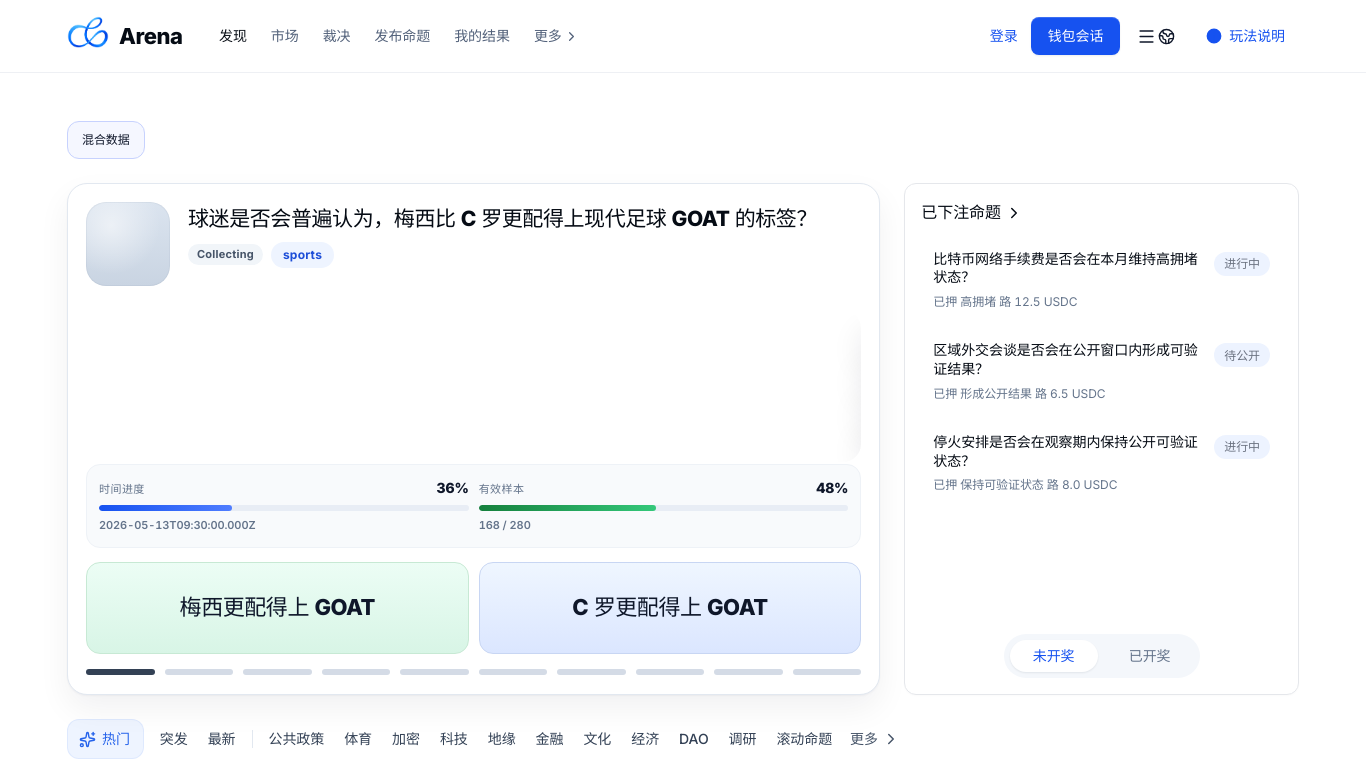
Scenario: quick menu popover › closes when clicking outside the popover
The width and height of the screenshot is (1366, 768).
Click the button named "Menu and language": (1156, 36) [1133,17,1179,55]
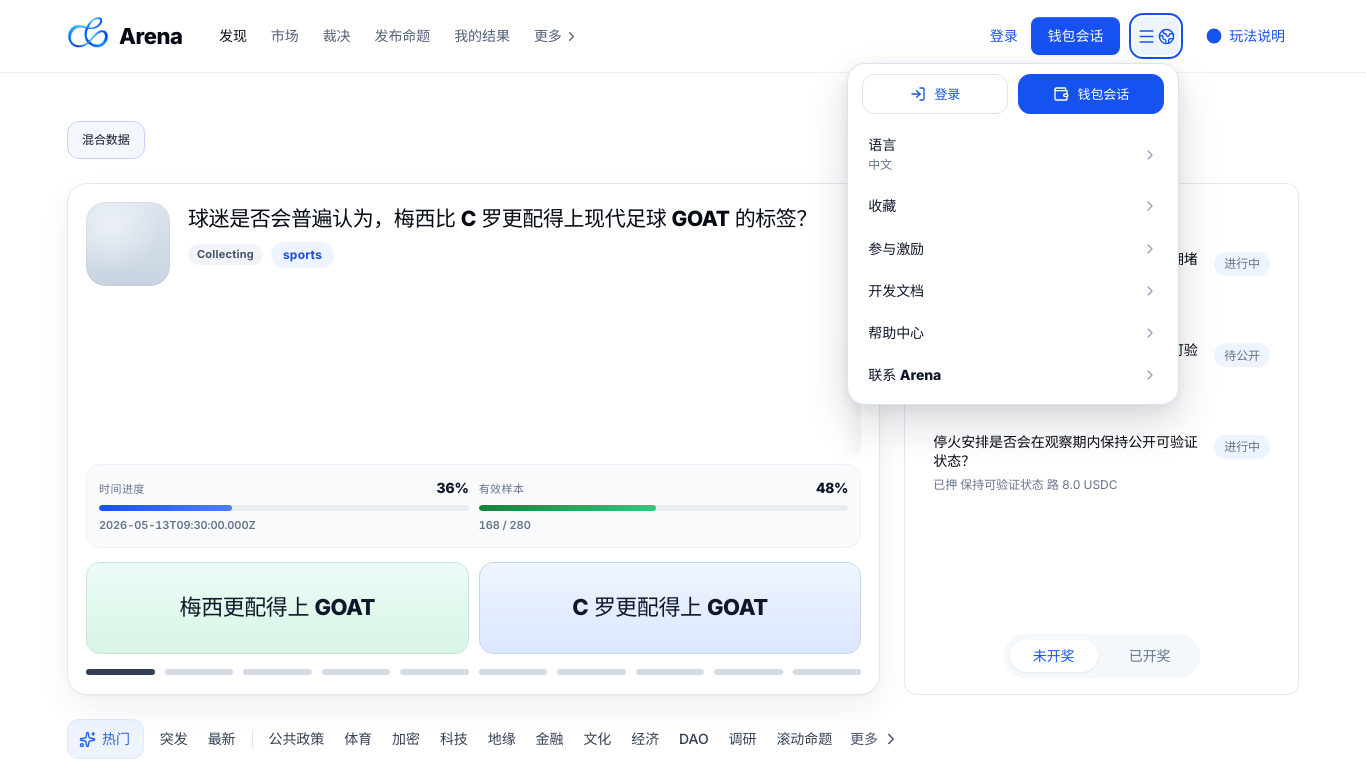
Check: the dialog named "快捷菜单" is shown
Click the element with test id "quick-menu-overlay": (1013, 234) [847,63,1179,405]
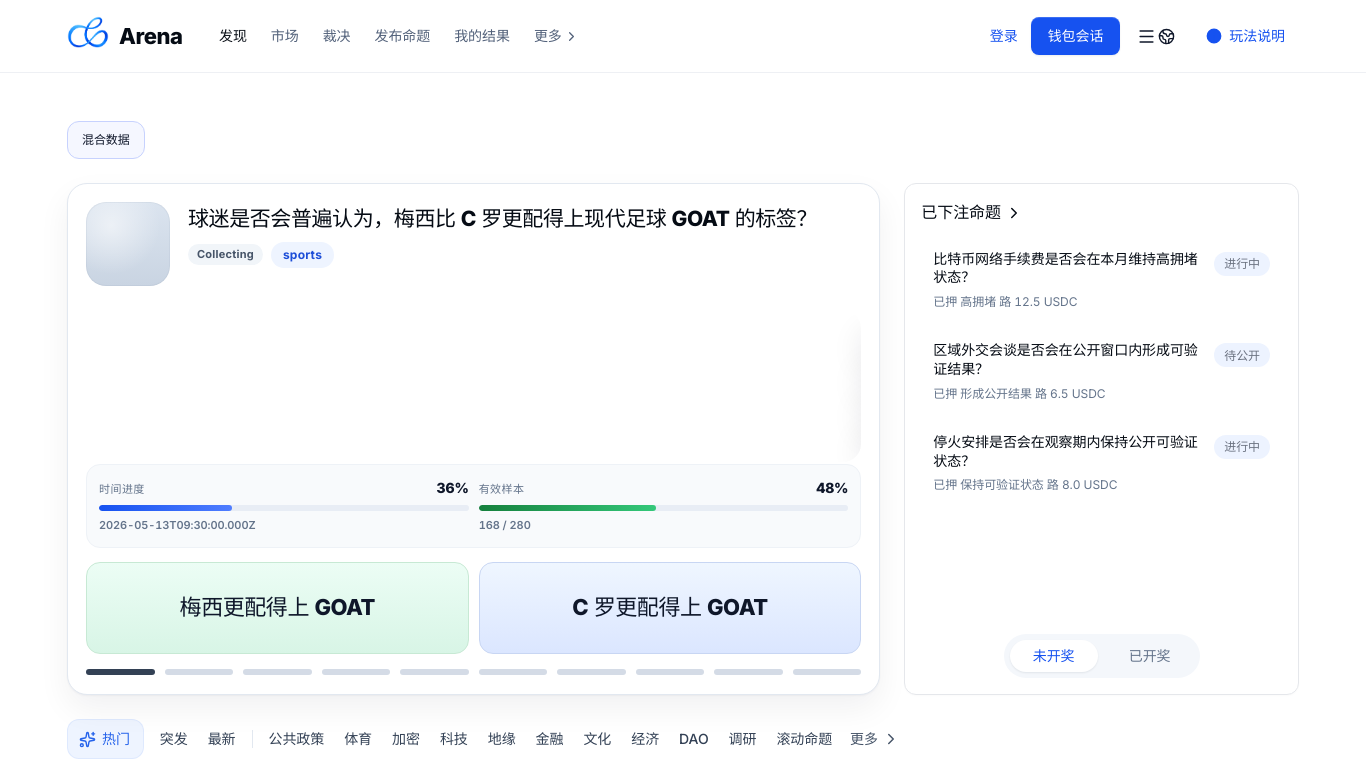
Check: the dialog "快捷菜单" is gone
